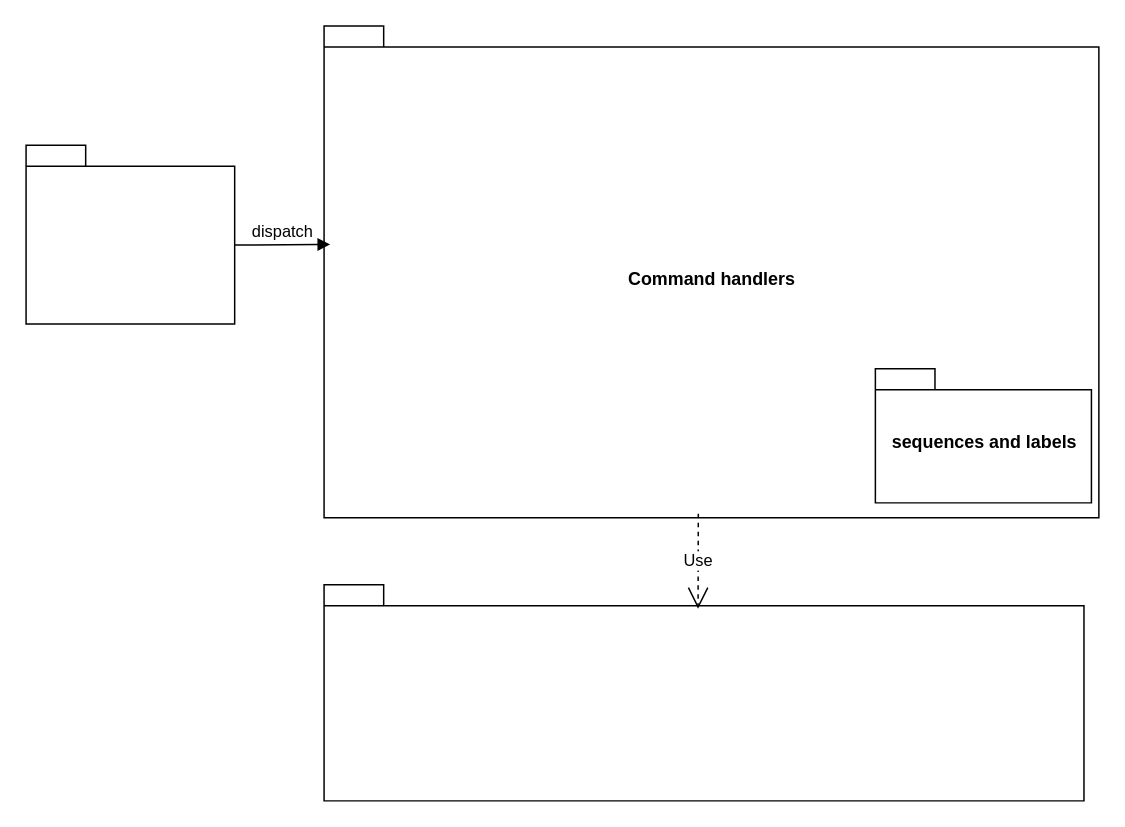
The diagram is 1125 pixels wide and 827 high, and some of its shapes have lost their labels. The shapes that lost their labels are listed below. From the top down, each one's box as (x1, y1, x2, y2) in pixels, then its label:
(25, 144, 235, 324): CLI (GNU Readline) parse comands and dispatch handler
(323, 583, 1084, 801): DNA sequence
